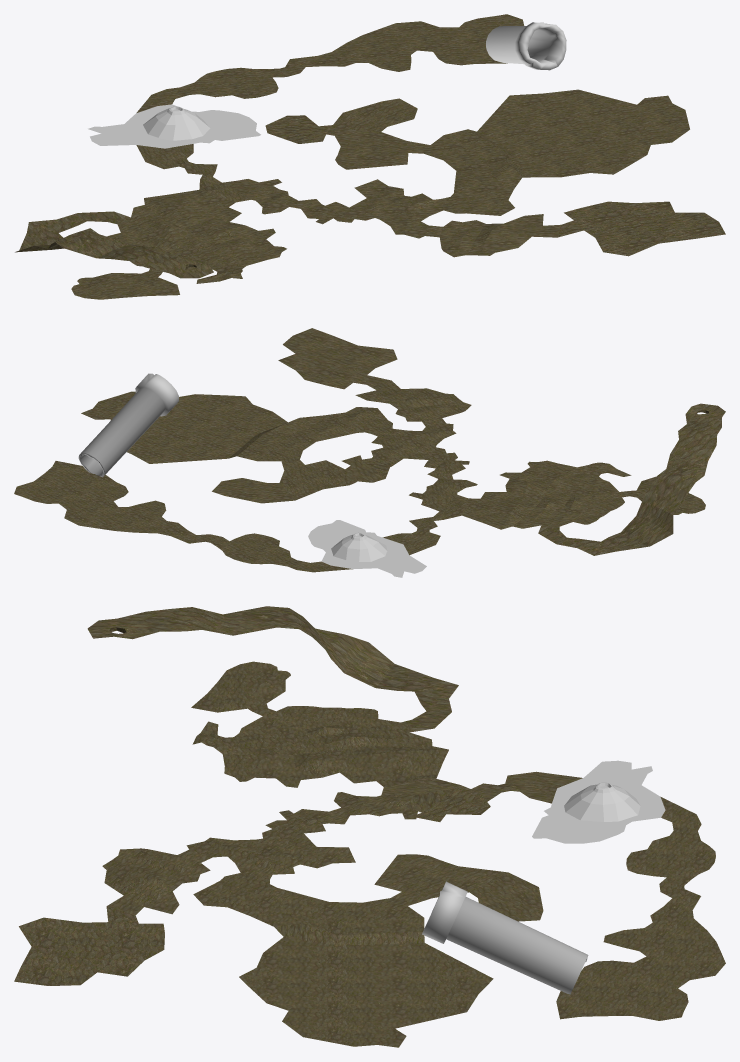
File: cave_Ground1_GEO.fbx
The picture shows the model from 3 angles, top to bottom: view 1: azimuth 30°, elevation 25°; view 2: azimuth 150°, elevation 25°; view 3: azimuth 270°, elevation 25°; orthographic projection. The views are drawn at different scales.
Visible parts, largest first — view 1: cave_Ground1_GEO; view 2: cave_Ground1_GEO; view 3: cave_Ground1_GEO.
Part boxes in pixels (bbox=[...]): cave_Ground1_GEO: bbox=[15, 14, 725, 299]; cave_Ground1_GEO: bbox=[14, 328, 725, 577]; cave_Ground1_GEO: bbox=[14, 606, 725, 1047].
Bounding box in the file's own units: 84.22 × 10.29 × 65.41.
